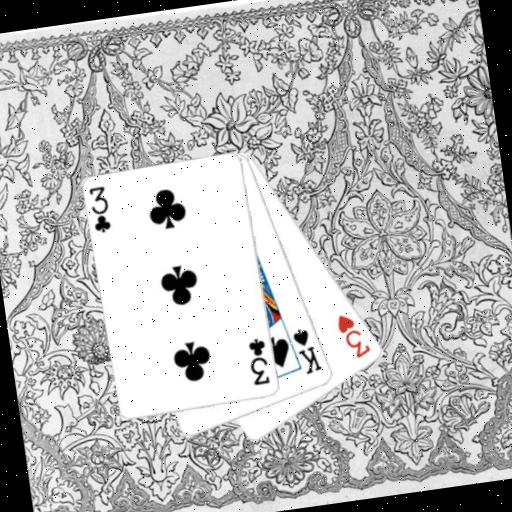3C: (244, 334, 273, 388), (85, 183, 114, 236)
3H: (333, 308, 374, 363)
KS: (289, 323, 325, 379)
